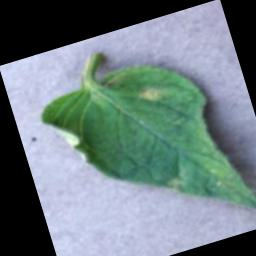Leaf_Mold: (132, 81, 167, 108)
